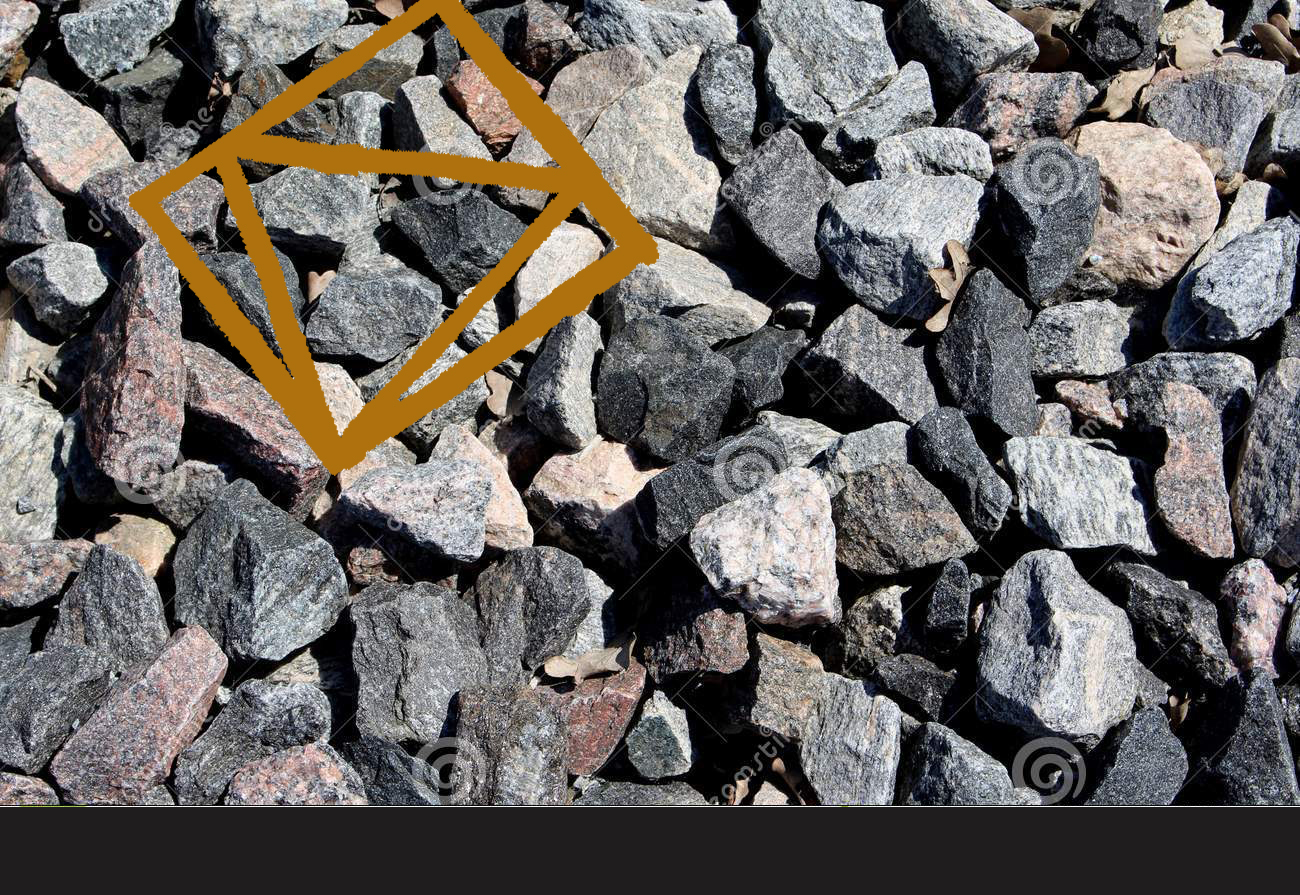marker: (119, 2, 671, 486)
